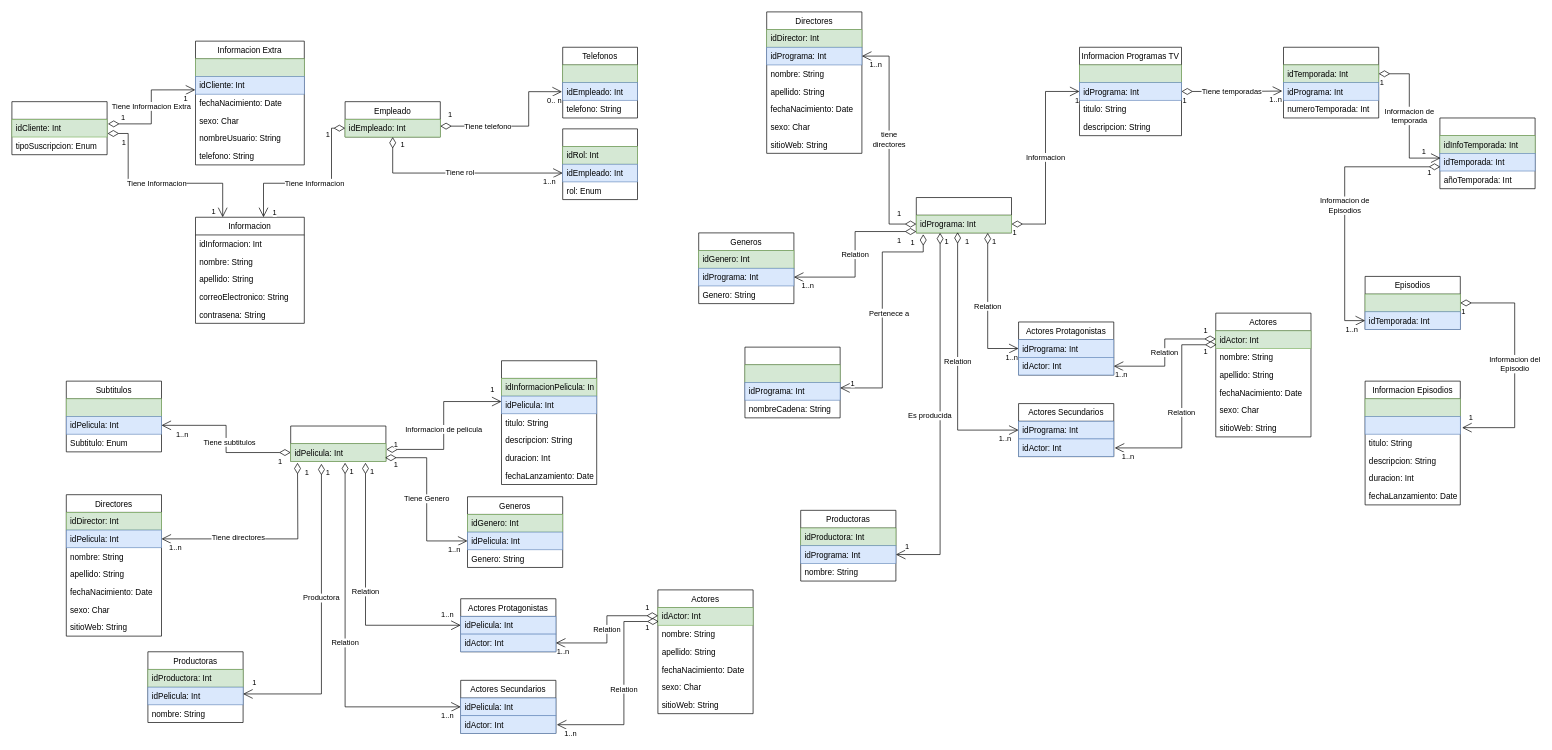
This 1552x750 diagram has some shape labels left out. Each missing label, with the box of its shape:
Cadenas de Television: (744, 346, 840, 418)
Clientes: (11, 101, 107, 155)
idCadena: Int: (744, 364, 840, 382)
idEpisodio: Int: (1364, 416, 1460, 434)
idEpisodios: Int: (1364, 293, 1460, 312)
idInfoEpisodio: Int: (1364, 398, 1460, 417)
idInformacionExtra: Int: (195, 58, 304, 76)
idInformacionPrograma: Int: (1079, 64, 1182, 83)
idSubtitulo: Int: (66, 398, 162, 417)
idTelefono: Int: (562, 64, 638, 83)
Informacion Peliculas: (501, 360, 597, 485)
Informacion Temporada: (1439, 117, 1535, 189)
Peliculas: (290, 425, 386, 461)
Programas de TV: (916, 197, 1012, 233)
Roles: (562, 128, 638, 200)
Temporadas: (1283, 47, 1379, 118)
